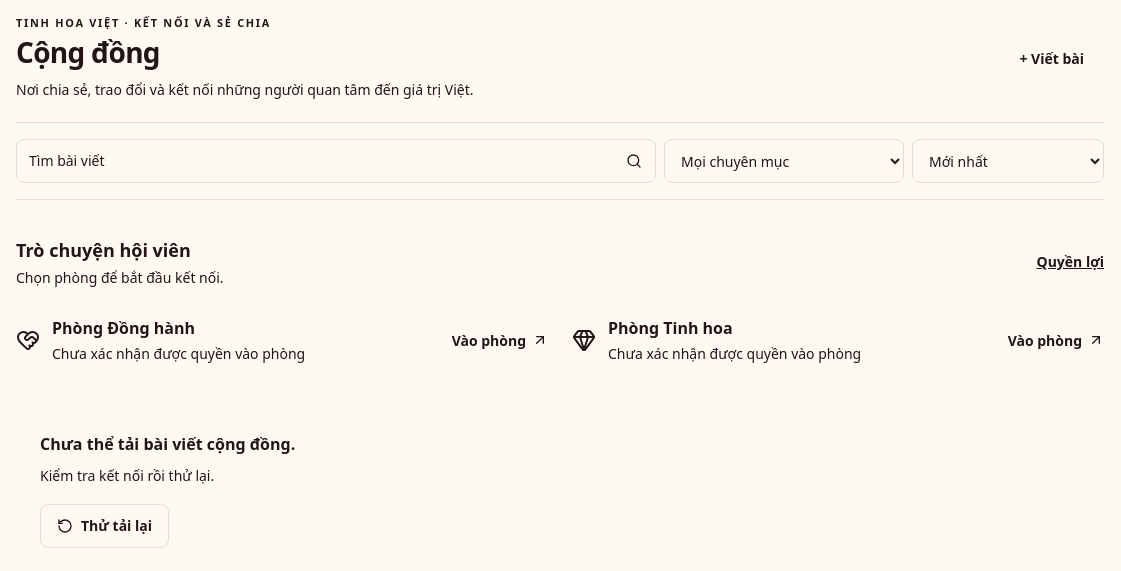
Test: CommunityFeed › exposes a retry action when the feed cannot load
This screenshot has width=1121, height=571.
Click the button "Thử tải lại" at (104, 526), box [40,504,169,548]
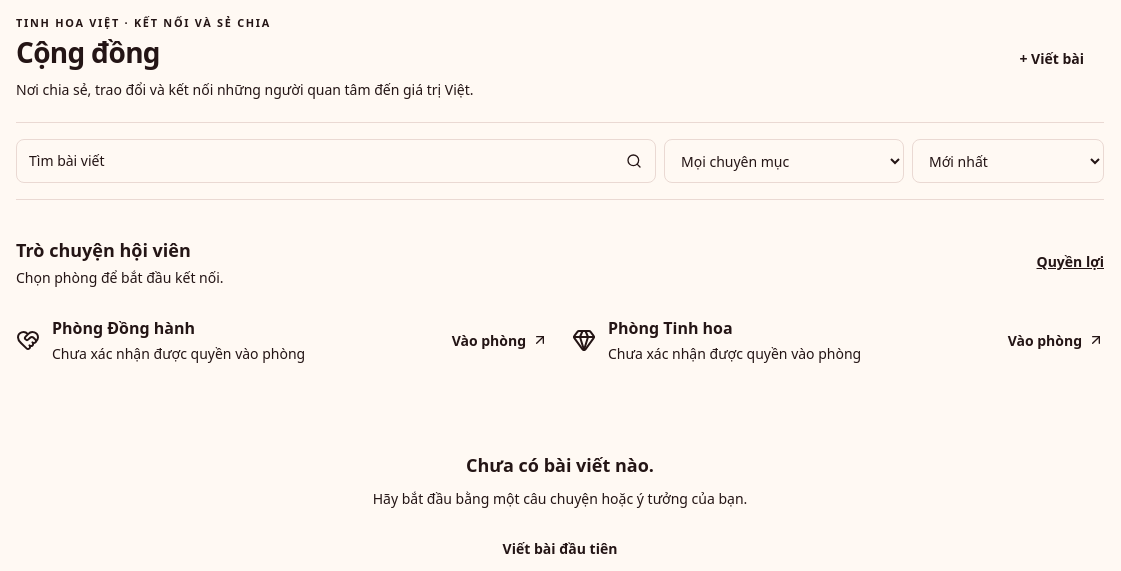
Check: the heading "Chưa có bài viết nào." is shown, box [466,453,654,477]
